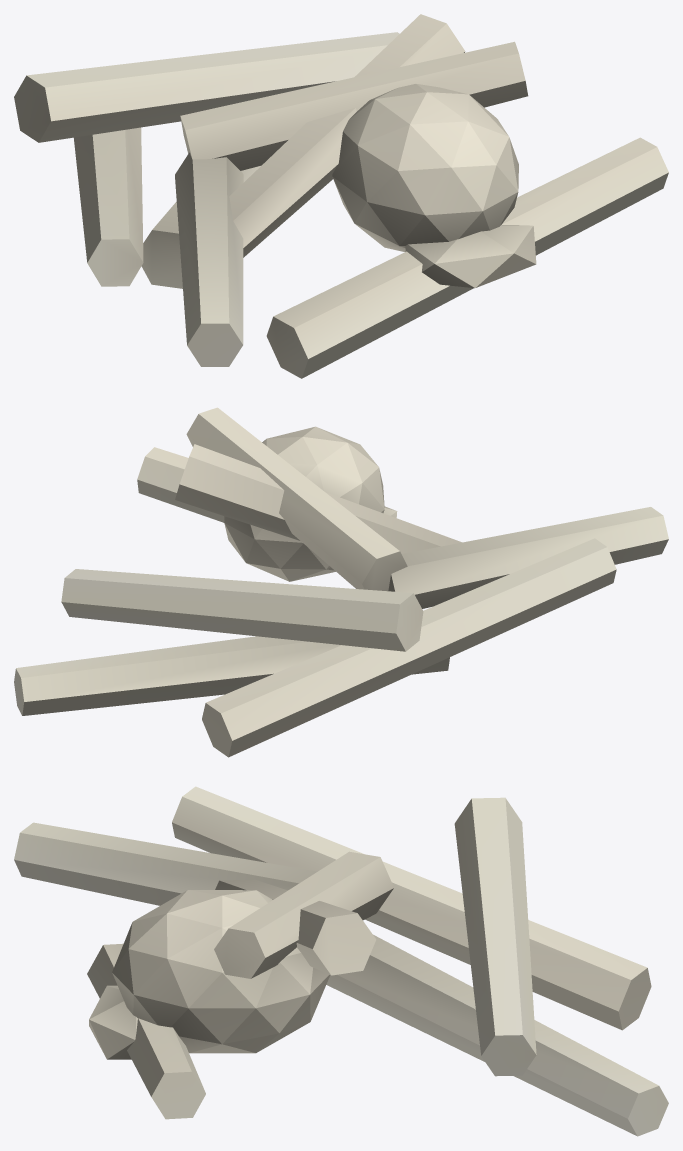
File: bone_pile_cave.glb
The picture shows the model from 3 angles, top to bottom: view 1: azimuth 30°, elevation 25°; view 2: azimuth 150°, elevation 25°; view 3: azimuth 270°, elevation 25°; orthographic projection. The views are drawn at different scales.
Parts seen in each view (by area): view 1: bone_pile_cave; view 2: bone_pile_cave; view 3: bone_pile_cave.
Part boxes in pixels (x1,y1,x2,y2): bone_pile_cave: (14, 14, 668, 378); bone_pile_cave: (14, 407, 668, 757); bone_pile_cave: (14, 786, 668, 1136).
Bounding box in the file's own units: 1.03 × 0.3722 × 1.06.
